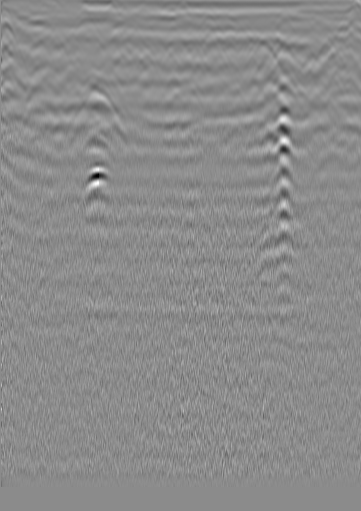가스: (75, 164, 115, 200)
상수: (327, 18, 347, 38)
오수: (18, 14, 38, 34)
우수: (165, 24, 185, 44)
